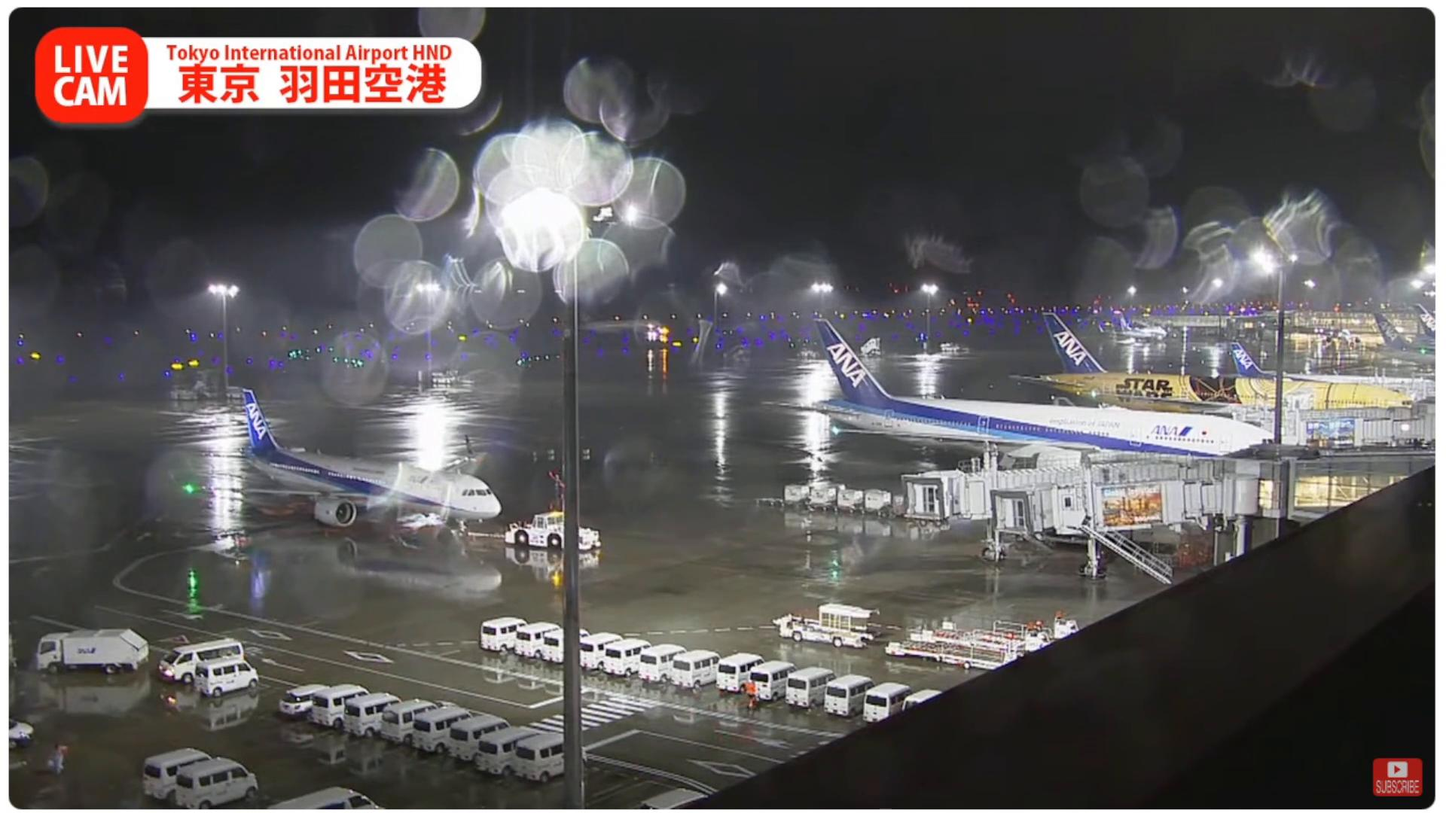APS: (220, 387, 505, 536), (502, 510, 600, 553)
Aerobridge: (898, 461, 1193, 525), (988, 473, 1227, 539)
Baggage truck: (34, 626, 152, 676)
Dolly: (785, 478, 899, 519)
JCPL: (914, 617, 1081, 654), (884, 636, 1033, 667)
Skyloader: (771, 602, 883, 649)
Window: (1289, 476, 1414, 509)
